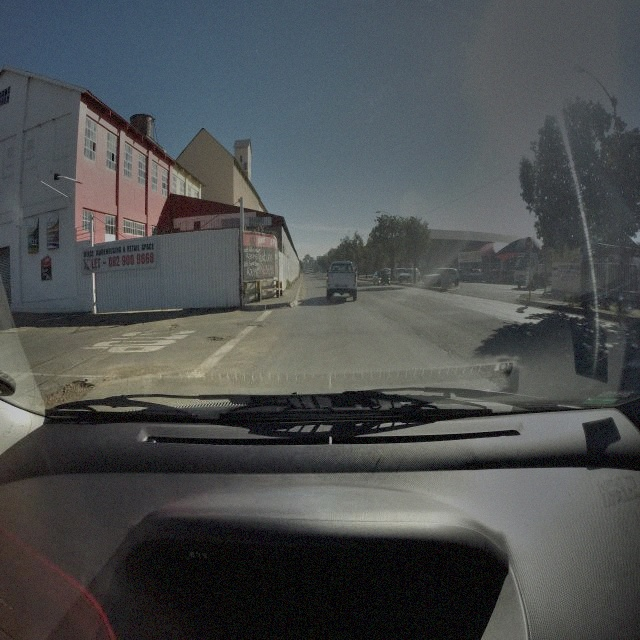pothole: (34, 376, 96, 413), (205, 333, 225, 342), (165, 322, 180, 331)
